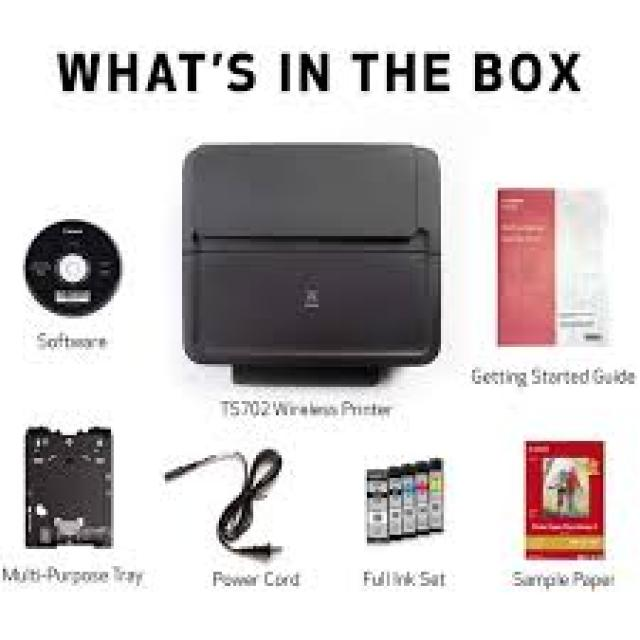printer: (179, 139, 441, 387)
